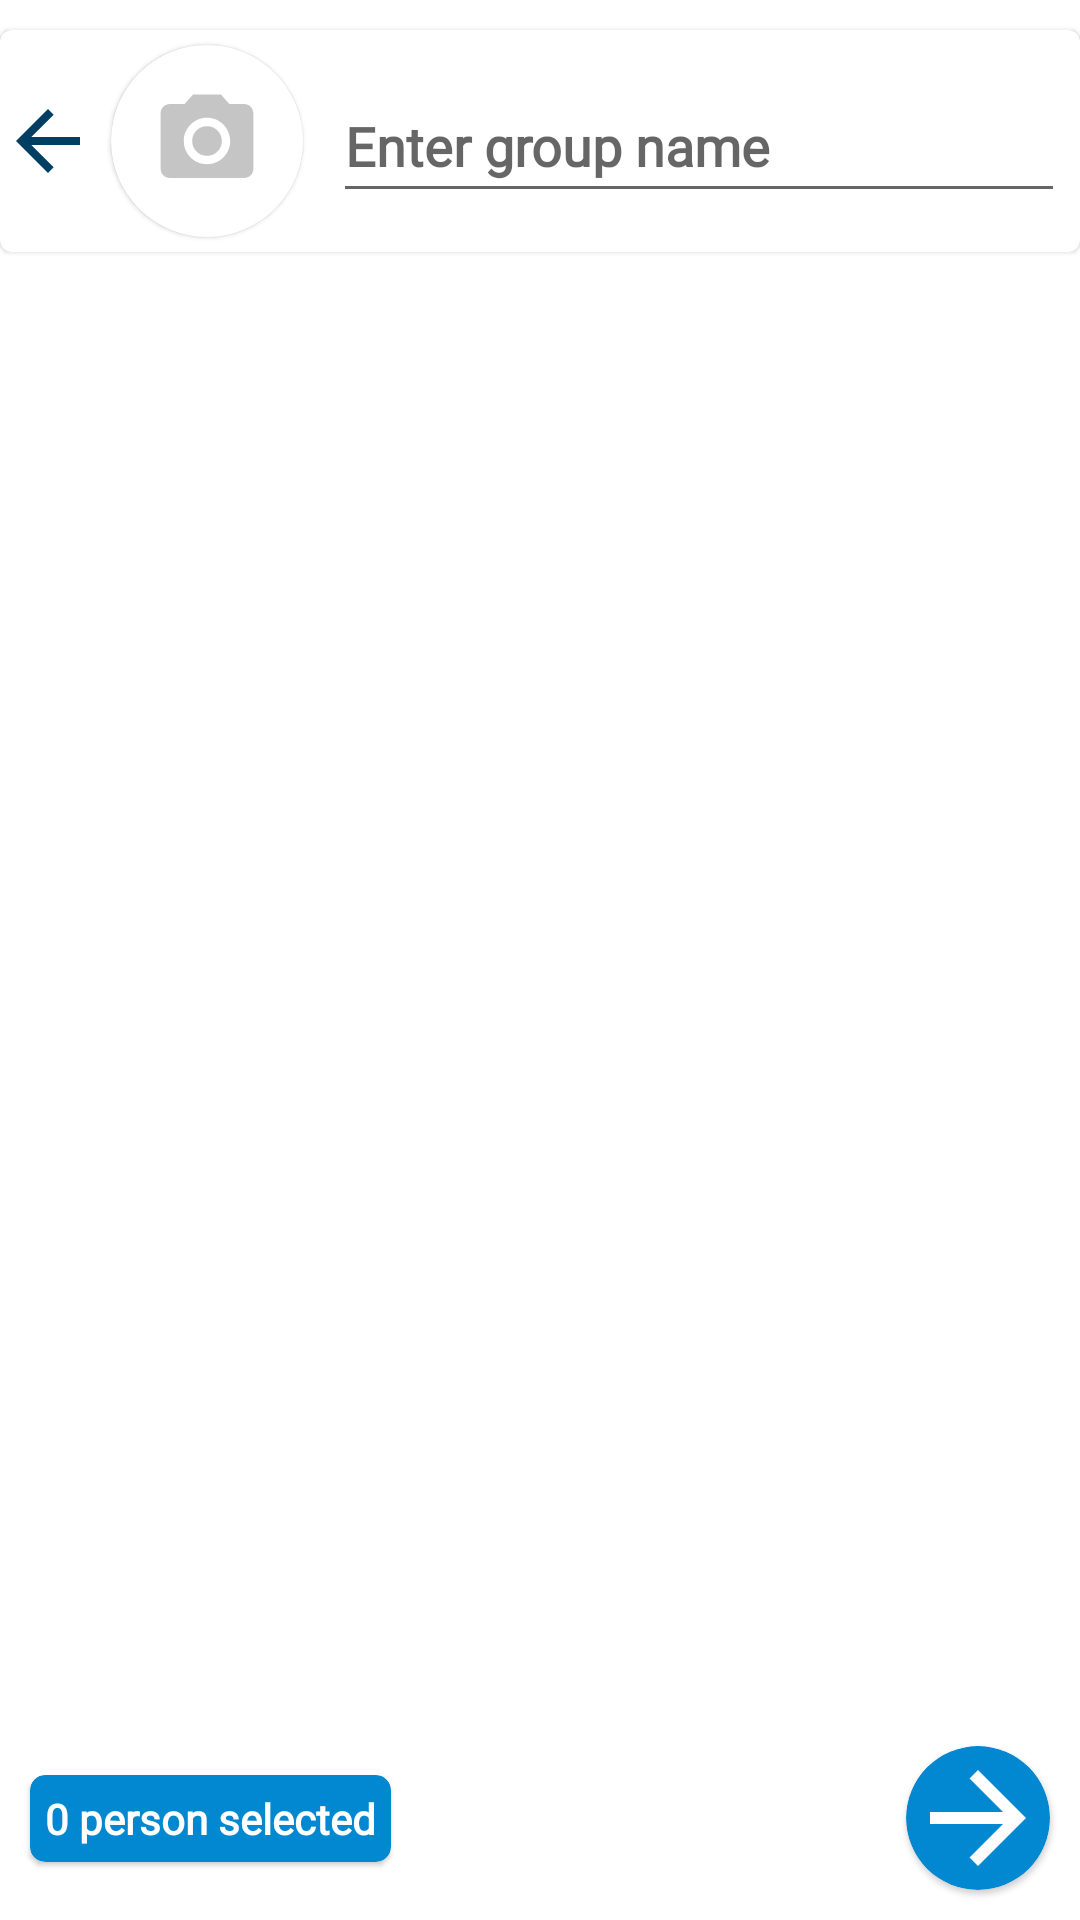

Locate icon controls on the screen. Image size 1080px×1920px, boxes as [x1=x1, y1=y1, x2=x2, y2=y2].
arrow back: [x1=16, y1=109, x2=80, y2=173]
arrow forward: [x1=906, y1=1746, x2=1050, y2=1890]
